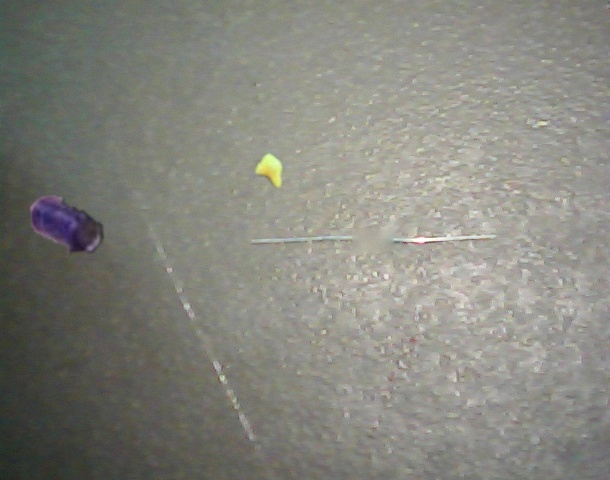capacitor: (31, 196, 103, 254), (255, 153, 283, 188)
